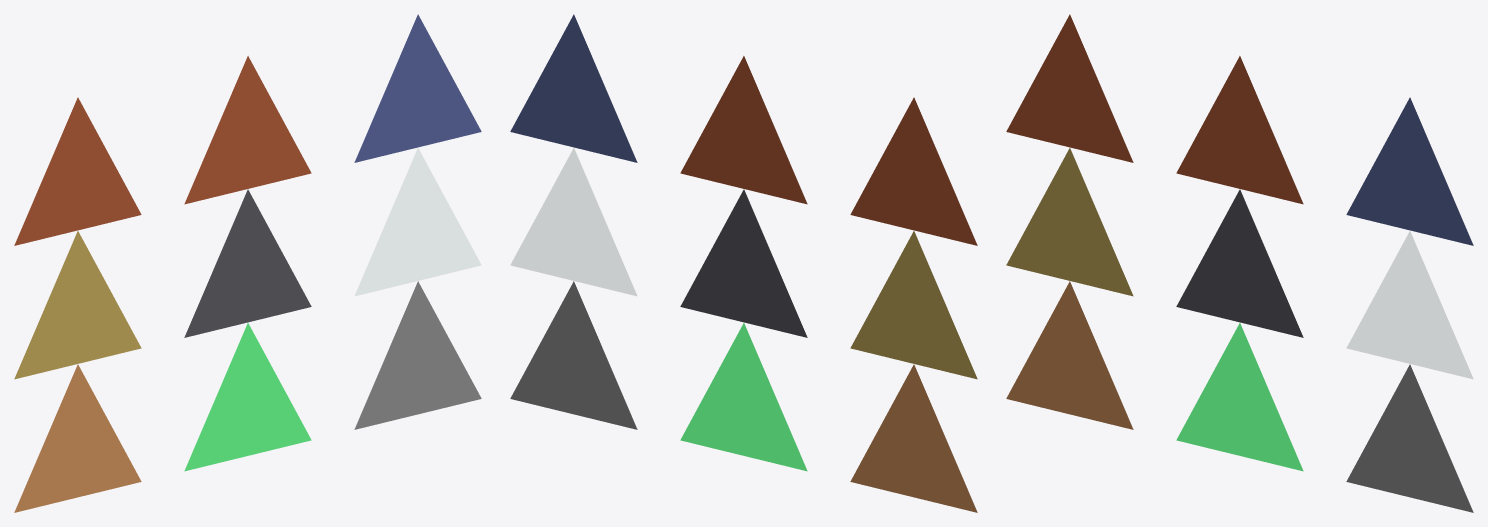
The model's file is complex_closure_lab.gltf.
3 views of the same model, side by side, from view 1: azimuth 30°, elevation 25°; view 2: azimuth 150°, elevation 25°; view 3: azimuth 330°, elevation 25° (orthographic).
Bounding box in the file's own units: 5.5 × 4.5 × 0.
